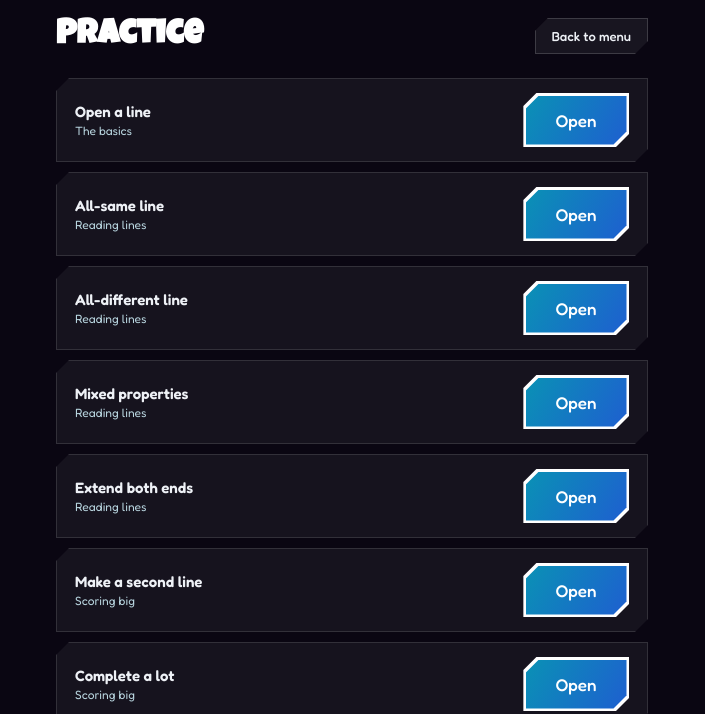
Scenario: Practice › opening a puzzle shows its instruction
Step 1. Click the button with aria-label "Open Open a line" → click(576, 120), box [523,93,629,147]
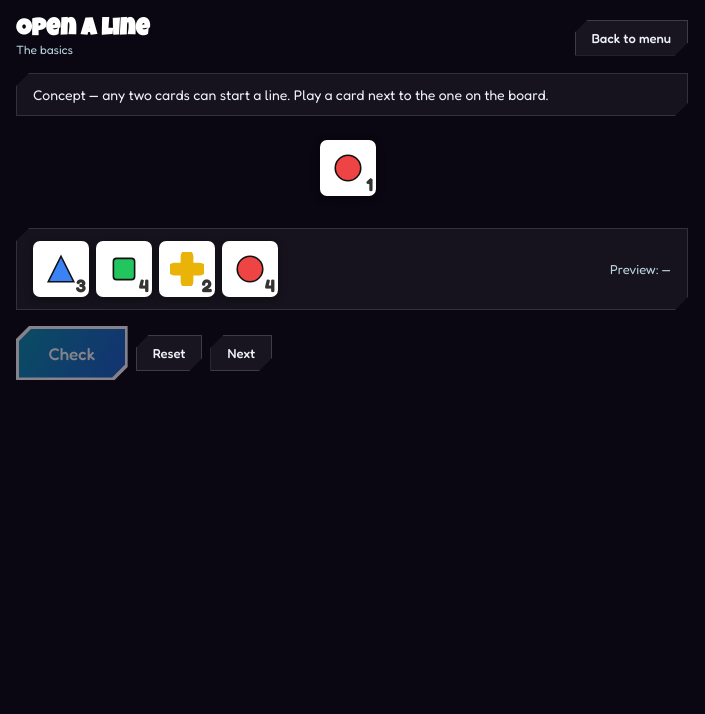
Check: the text "any two cards can start a line" is shown, box [33,86,549,103]
